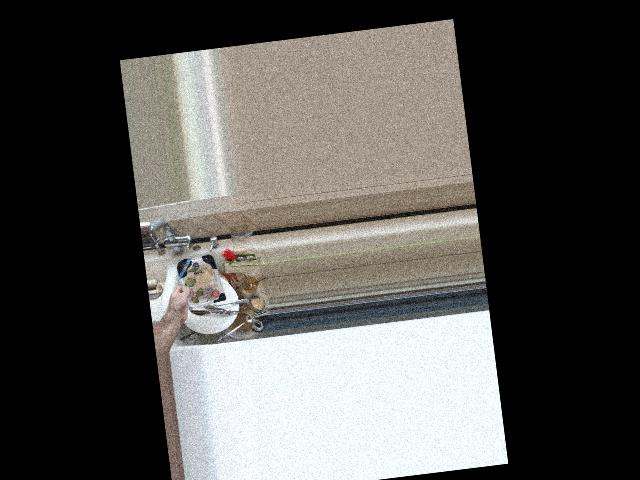cheese: (162, 249, 226, 320)
